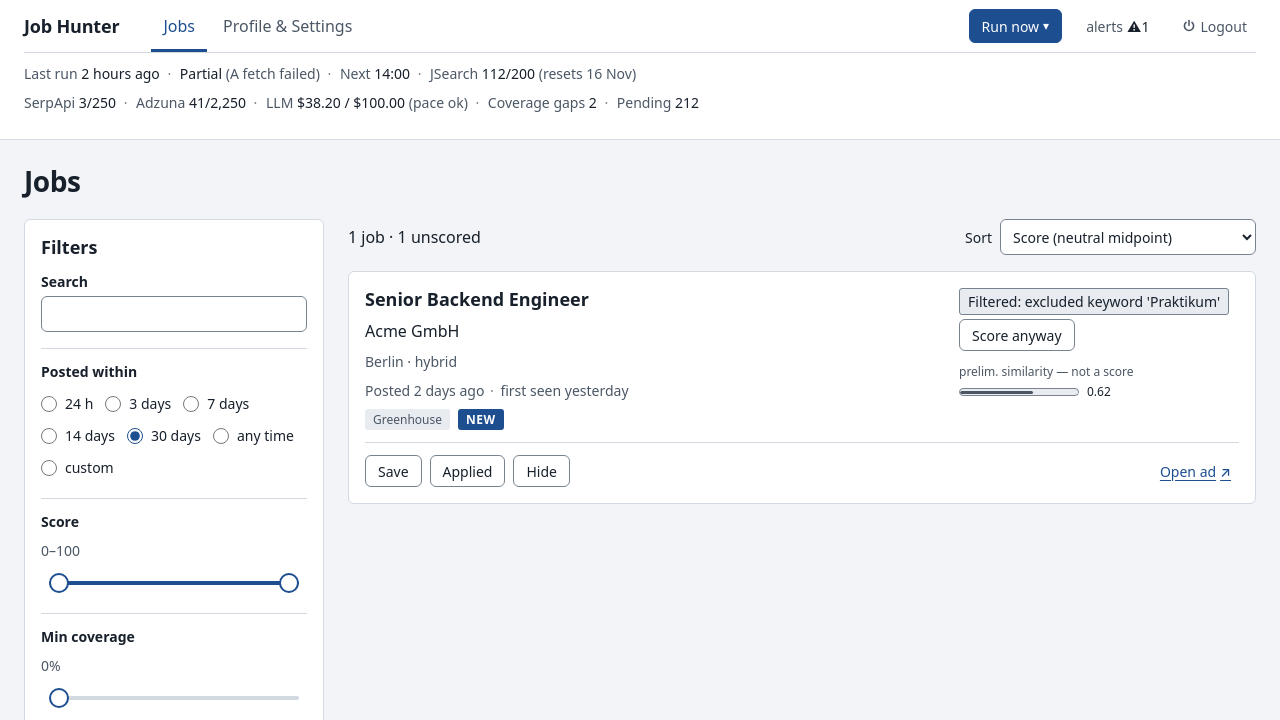
Test: the score or the chip › filtered chip names the keyword and Score anyway confirms then sends force
Expected: the text "Filtered: excluded keyword 'Praktikum'" is shown, [959, 288, 1229, 315]
Click the button "Score anyway" at {"x": 1017, "y": 335}, box [959, 319, 1075, 351]
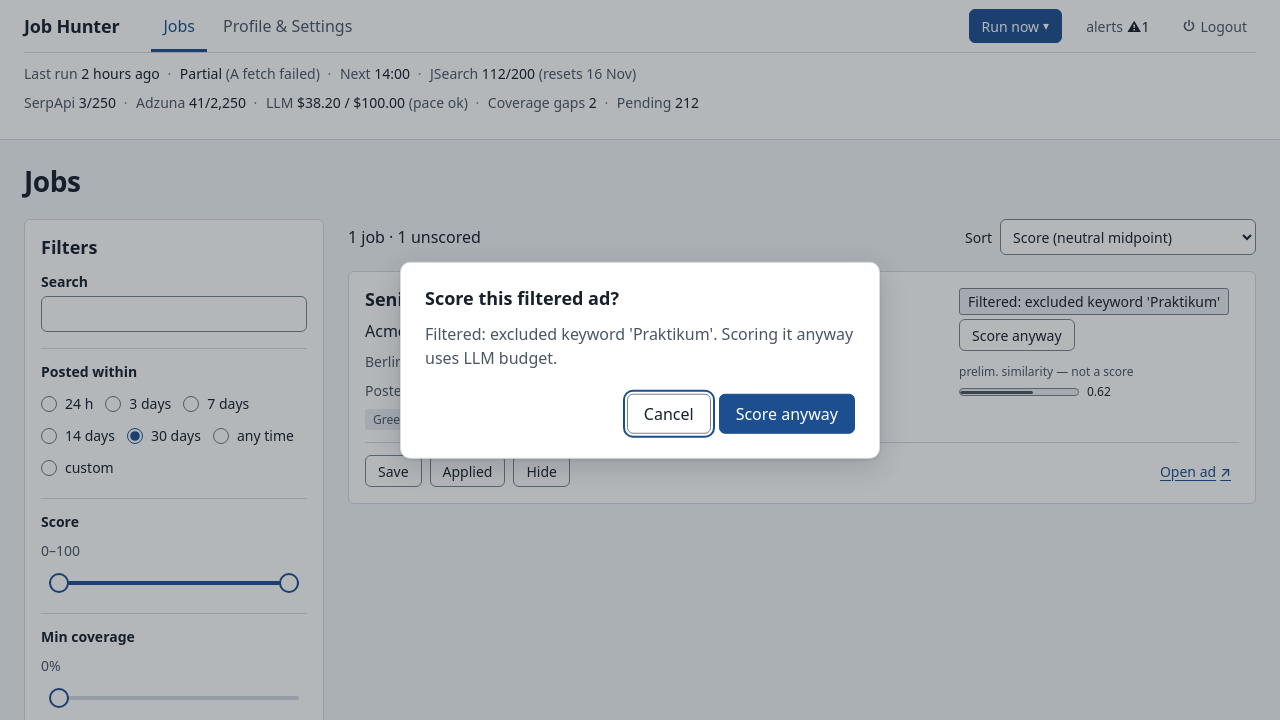
Result: the dialog "Score this filtered ad?" shows "Filtered: excluded keyword 'Praktikum'" at [425, 322, 853, 368]
Click the button "Score anyway" at {"x": 787, "y": 413}, box [719, 393, 855, 433]
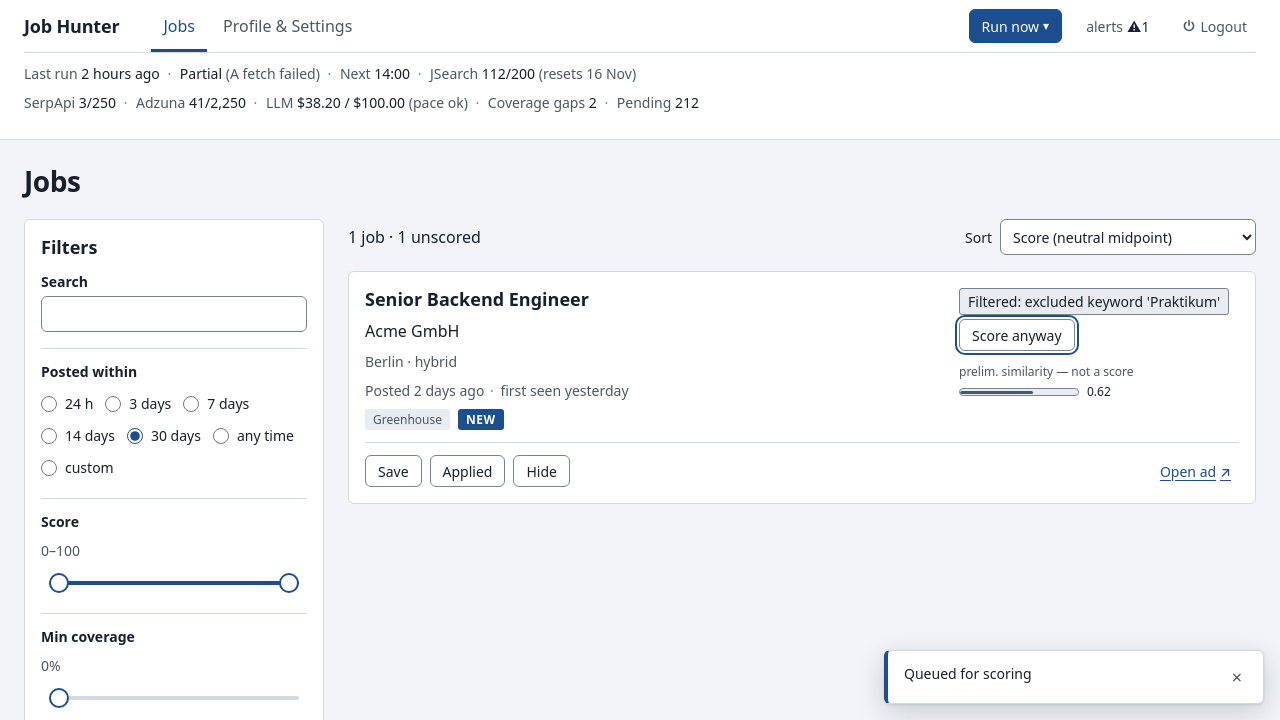
Result: the dialog is gone
Result: the text "Queued for scoring" is shown at [904, 664, 1032, 683]
